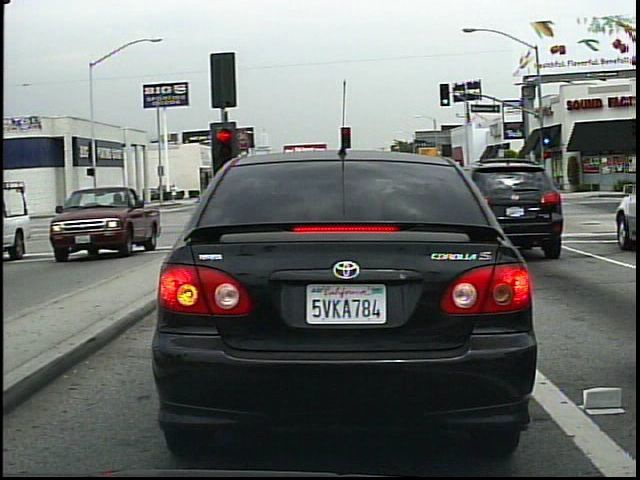person: (169, 182, 180, 204)
